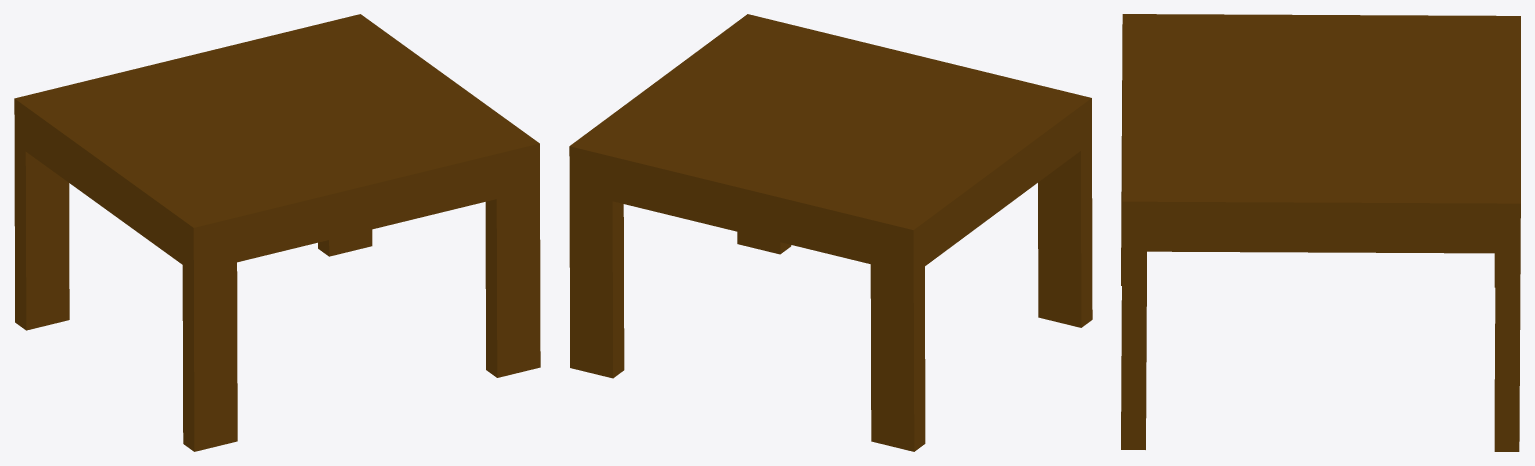
Rendered from Table.glb.
3 renders of one model, left to right at view 1: azimuth 30°, elevation 25°; view 2: azimuth 150°, elevation 25°; view 3: azimuth 270°, elevation 25°, orthographic. The views are drawn at different scales.
Parts seen in each view (by area): view 1: table; view 2: table; view 3: table.
Part boxes in pixels (<box>): table: <box>14,14,540,451</box>; table: <box>569,14,1092,451</box>; table: <box>1121,14,1520,451</box>.
Size of the model in its own units: 1.63 by 1.01 by 1.47.
1 material, 1 textured.
